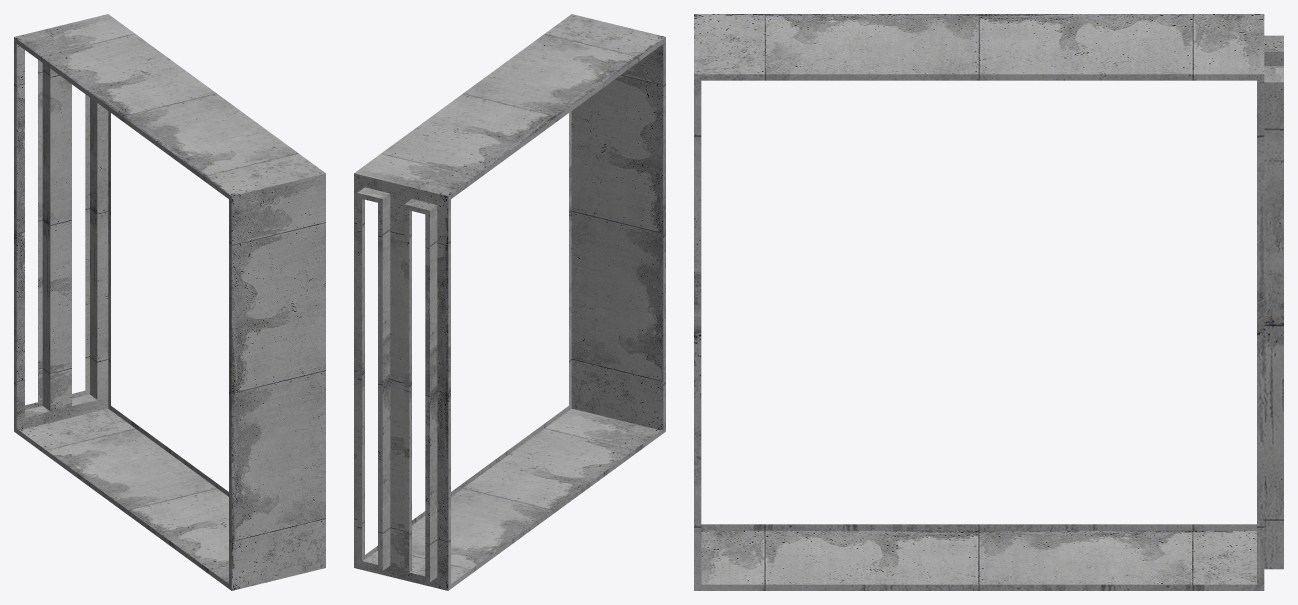
The picture shows the model from 3 angles, left to right: view 1: azimuth 30°, elevation 25°; view 2: azimuth 150°, elevation 25°; view 3: azimuth 270°, elevation 25°; orthographic projection. The views are drawn at different scales.
Parts seen in each view (by area): view 1: SM_Box_4_LOD0; view 2: SM_Box_4_LOD0; view 3: SM_Box_4_LOD0.
Part boxes in pixels (bbox=[...]): SM_Box_4_LOD0: bbox=[14, 14, 325, 590]; SM_Box_4_LOD0: bbox=[354, 14, 665, 590]; SM_Box_4_LOD0: bbox=[694, 14, 1283, 590].
Bounding box in the file's own units: 200 × 828 × 800.
Materials: 1 (1 with a texture image).
